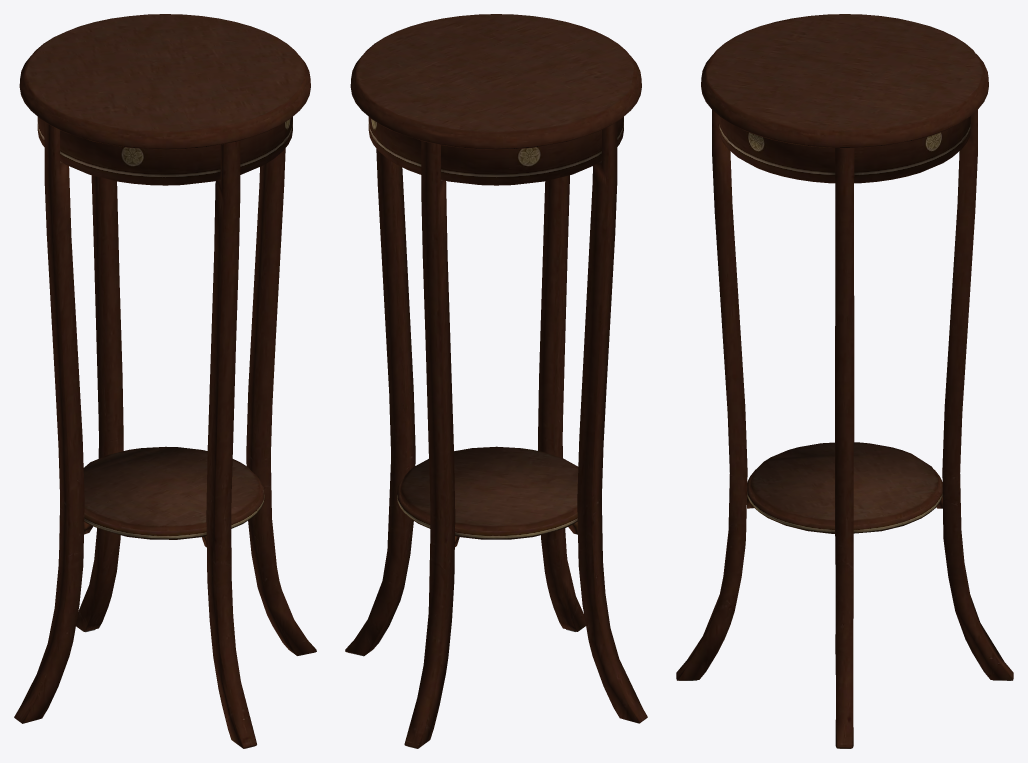
Rendered from side_table_tall_01.glb.
The picture shows the model from 3 angles, left to right: view 1: azimuth 30°, elevation 25°; view 2: azimuth 150°, elevation 25°; view 3: azimuth 270°, elevation 25°; orthographic projection.
Parts seen in each view (by area): view 1: side_table_tall_01; view 2: side_table_tall_01; view 3: side_table_tall_01.
Part boxes in pixels (x1=…): side_table_tall_01: x1=14, y1=14, x2=316, y2=748; side_table_tall_01: x1=345, y1=14, x2=647, y2=748; side_table_tall_01: x1=676, y1=14, x2=1013, y2=748.
Bounding box in the file's own units: 0.3837 × 0.7611 × 0.3837.
1 material, 1 textured.
